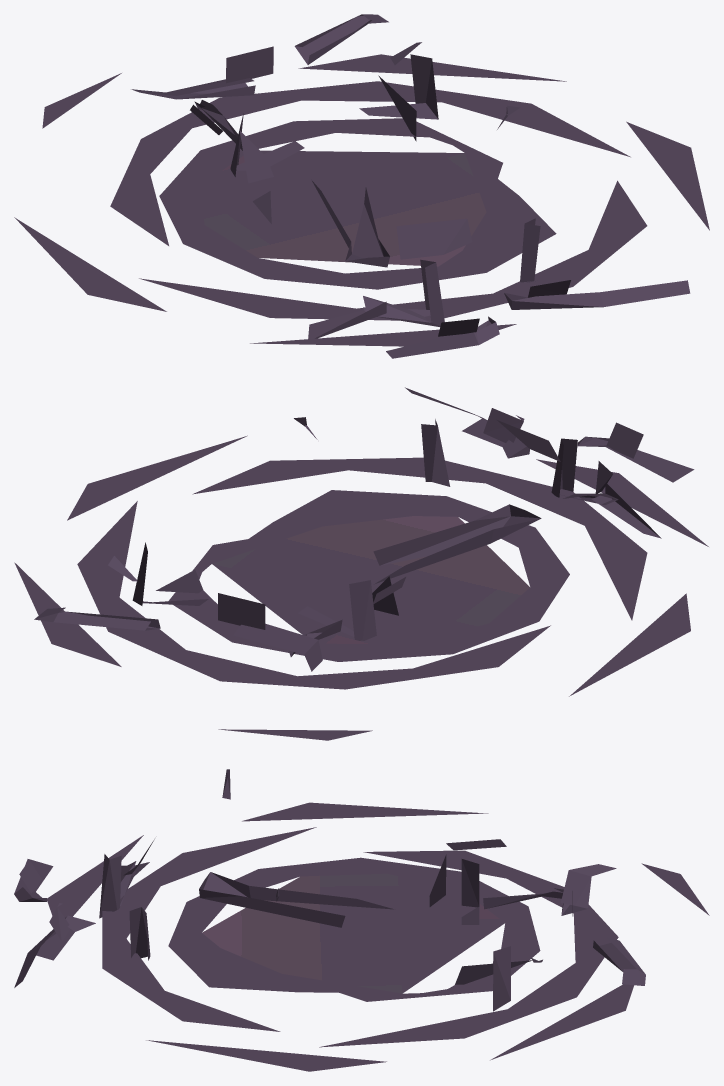
Rendered from 173_wreck_crater.gltf.
3 views of the same model, one above another, from view 1: azimuth 30°, elevation 25°; view 2: azimuth 150°, elevation 25°; view 3: azimuth 270°, elevation 25° (orthographic). The views are drawn at different scales.
Parts seen in each view (by area): view 1: wreck_crater; view 2: wreck_crater; view 3: wreck_crater.
Boxes of the visible parts, bbox=[...] form: wreck_crater: bbox=[14, 14, 709, 358]; wreck_crater: bbox=[14, 387, 708, 740]; wreck_crater: bbox=[14, 769, 709, 1071].
Bounding box in the file's own units: 15.12 × 2.68 × 16.52.
Materials: 1 (1 with a texture image).
